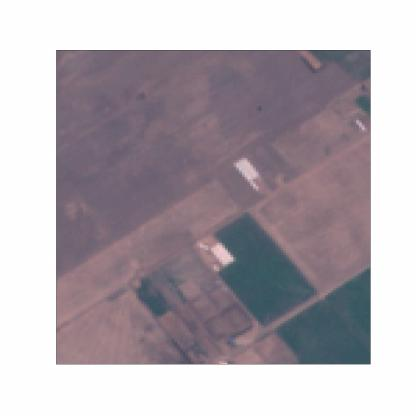silobolsa: (236, 153, 262, 193), (210, 240, 230, 267), (355, 116, 364, 133)
